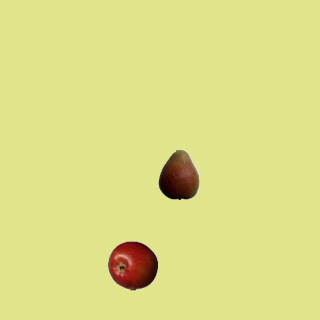Apple Braeburn: (107, 240, 157, 290)
Pear Forelle: (153, 149, 203, 199)
